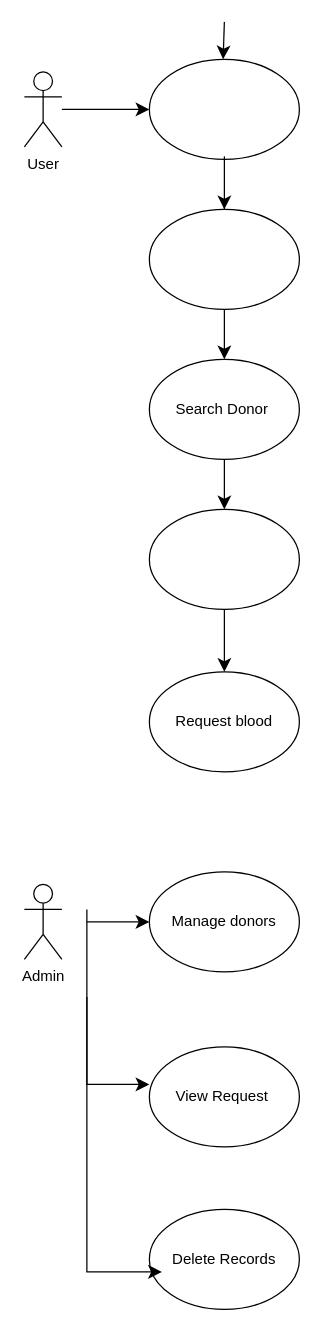
This 321x1331 diagram has some shape labels left out. The centre of each missing label's shape, as x and y in pixels:
"Login" belongs at [223,258].
"Register" belongs at [223,108].
"View donor list" belongs at [223,558].
